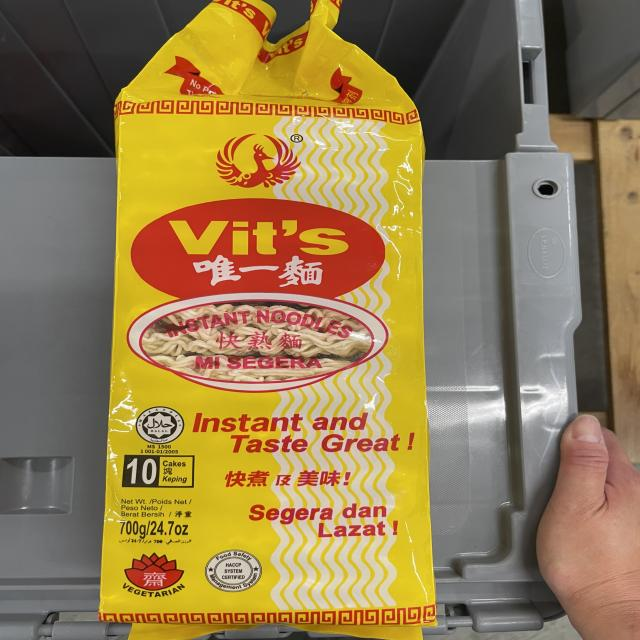object_name: (121, 30, 423, 633)
